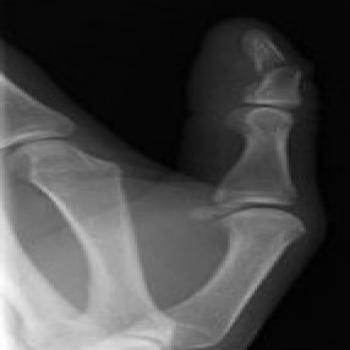Fracture: (251, 51, 312, 79)
